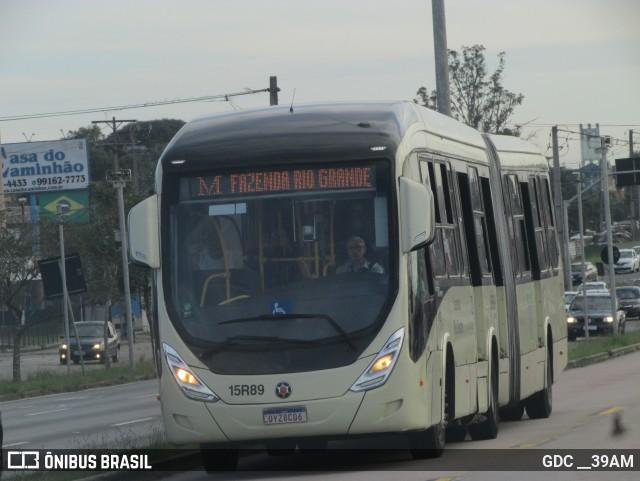FAZENDA RIO GRANDE: (225, 162, 375, 199)
